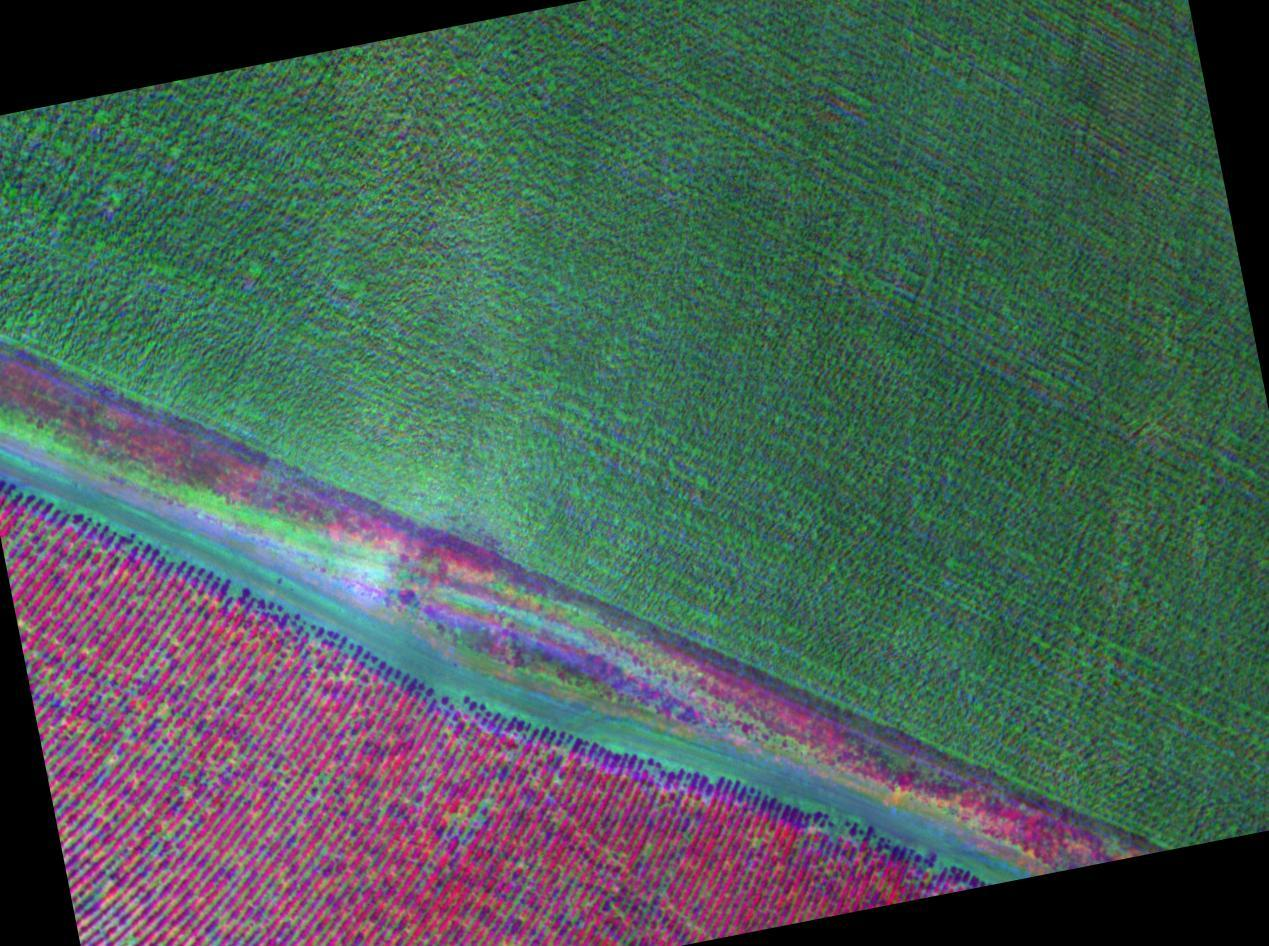dc: (393, 758, 516, 854), (251, 763, 332, 858), (81, 873, 175, 946), (151, 683, 222, 767), (61, 643, 137, 720)
